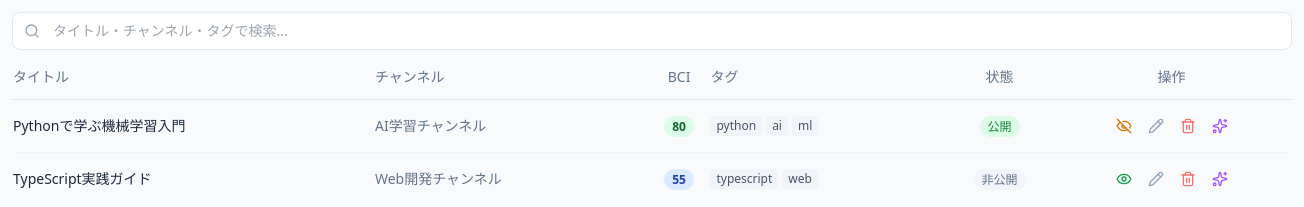
Scenario: VideoTable › 検索フィルタリング › タイトルで絞り込みができる
Step 1. Type "Python" into the field labelled "タイトル・チャンネル・タグで検索" → [652, 31], box [12, 12, 1292, 50]
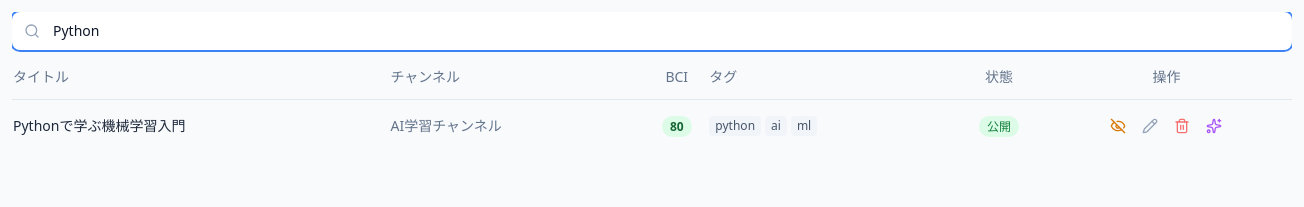
Expected: the text "Pythonで学ぶ機械学習入門" is shown, [13, 116, 185, 135]
Expected: the text "TypeScript実践ガイド" is gone
